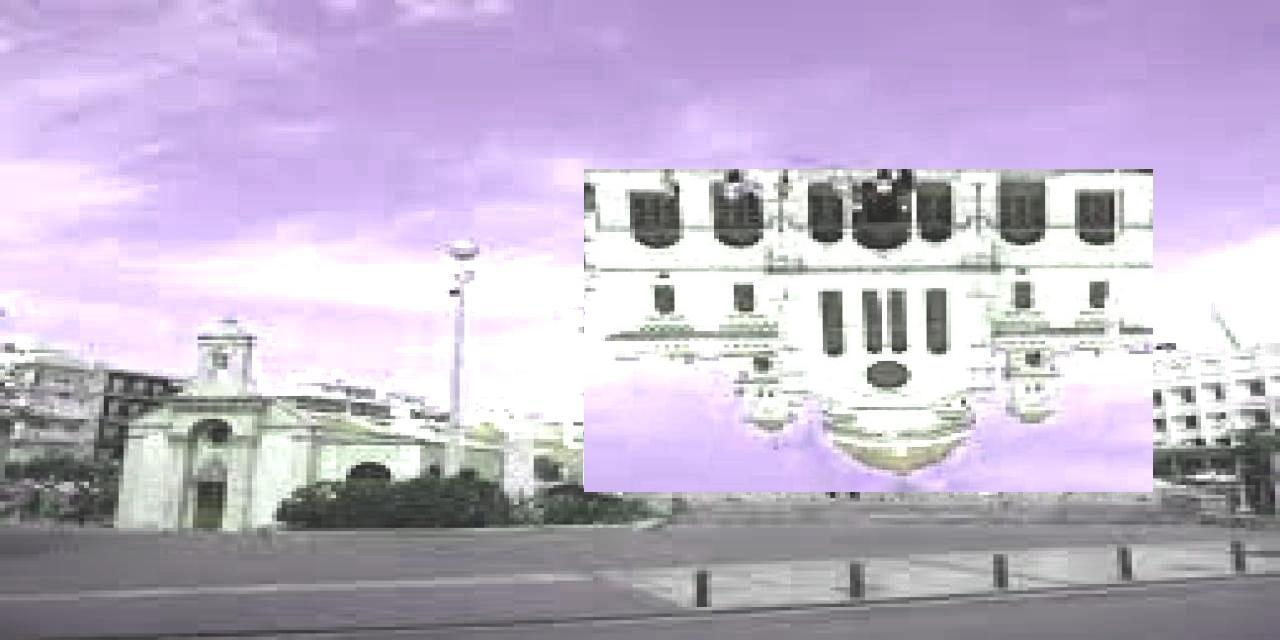Agios Minas: (585, 170, 1154, 493)
